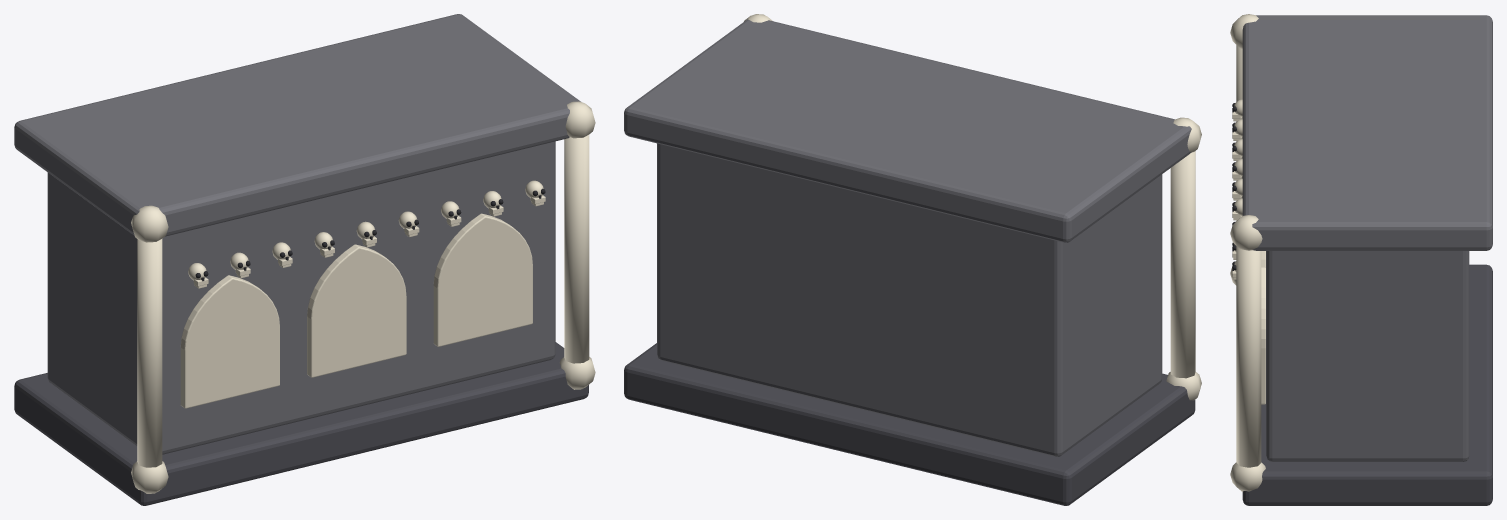
The model's file is altar_bone_altar.glb.
3 renders of one model, left to right at view 1: azimuth 30°, elevation 25°; view 2: azimuth 150°, elevation 25°; view 3: azimuth 270°, elevation 25°, orthographic. The views are drawn at different scales.
Parts seen in each view (by area): view 1: GD_altar_bone_altar__m1, GD_altar_bone_altar__m2, GD_altar_bone_altar__m0; view 2: GD_altar_bone_altar__m1, GD_altar_bone_altar__m0, GD_altar_bone_altar__m2; view 3: GD_altar_bone_altar__m1, GD_altar_bone_altar__m0, GD_altar_bone_altar__m2, GD_altar_bone_altar__m3.
Part boxes in pixels (<box>): GD_altar_bone_altar__m1: <box>14,14,580,454</box>; GD_altar_bone_altar__m2: <box>131,101,595,493</box>; GD_altar_bone_altar__m0: <box>14,342,588,505</box>; GD_altar_bone_altar__m1: <box>624,19,1191,456</box>; GD_altar_bone_altar__m0: <box>624,343,1195,505</box>; GD_altar_bone_altar__m2: <box>744,14,1201,400</box>; GD_altar_bone_altar__m1: <box>1242,15,1492,461</box>; GD_altar_bone_altar__m0: <box>1242,264,1492,505</box>; GD_altar_bone_altar__m2: <box>1230,14,1265,491</box>; GD_altar_bone_altar__m3: <box>1232,103,1236,270</box>.
Bounding box in the file's own units: 1.64 × 1.01 × 0.84.
